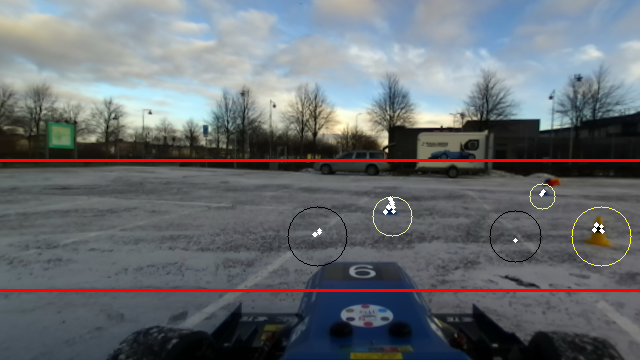blue: (382, 194, 398, 215), (539, 180, 551, 195)
yellow: (586, 216, 612, 248)
